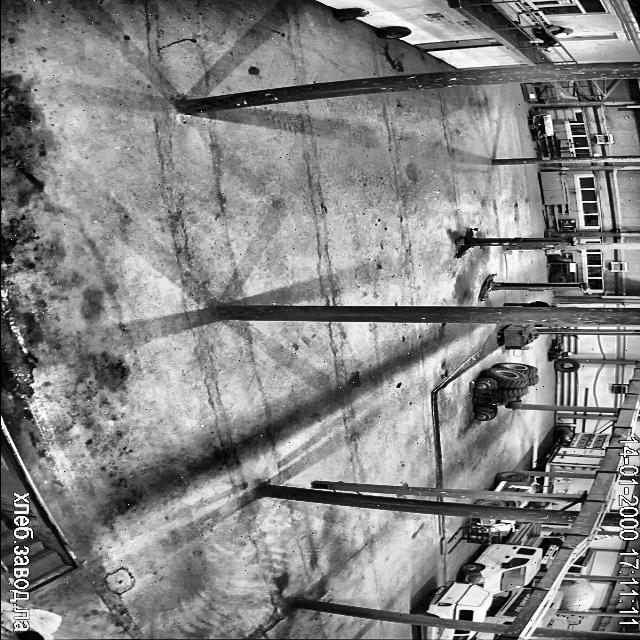car lift: (455, 228, 576, 257), (479, 274, 588, 300)
fire extinguisher: (334, 8, 368, 21)
mechanic: (2, 601, 60, 640), (534, 24, 572, 50), (503, 300, 556, 307), (19, 606, 20, 608)
truck: (461, 524, 541, 593), (412, 581, 492, 620), (533, 433, 612, 472), (484, 588, 532, 624), (463, 518, 524, 543), (557, 578, 595, 610), (493, 472, 542, 496), (540, 476, 594, 494), (537, 592, 562, 627), (476, 498, 551, 508), (421, 626, 473, 640), (567, 548, 595, 574), (541, 536, 564, 565), (476, 632, 498, 640), (551, 504, 580, 510), (559, 616, 579, 624), (596, 536, 610, 540), (611, 492, 615, 506), (552, 504, 562, 508), (572, 505, 579, 509), (603, 528, 612, 529), (532, 472, 534, 474)
